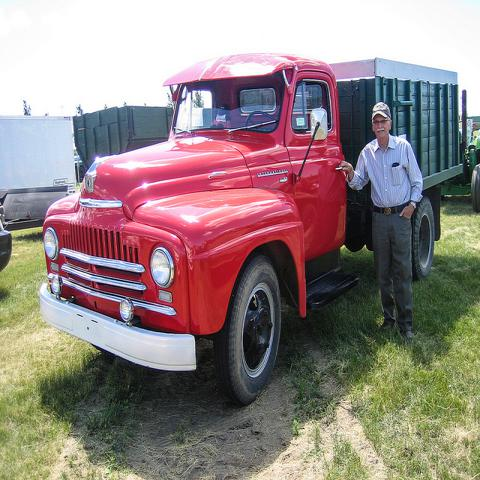truck: (39, 51, 467, 407), (72, 105, 175, 169)
